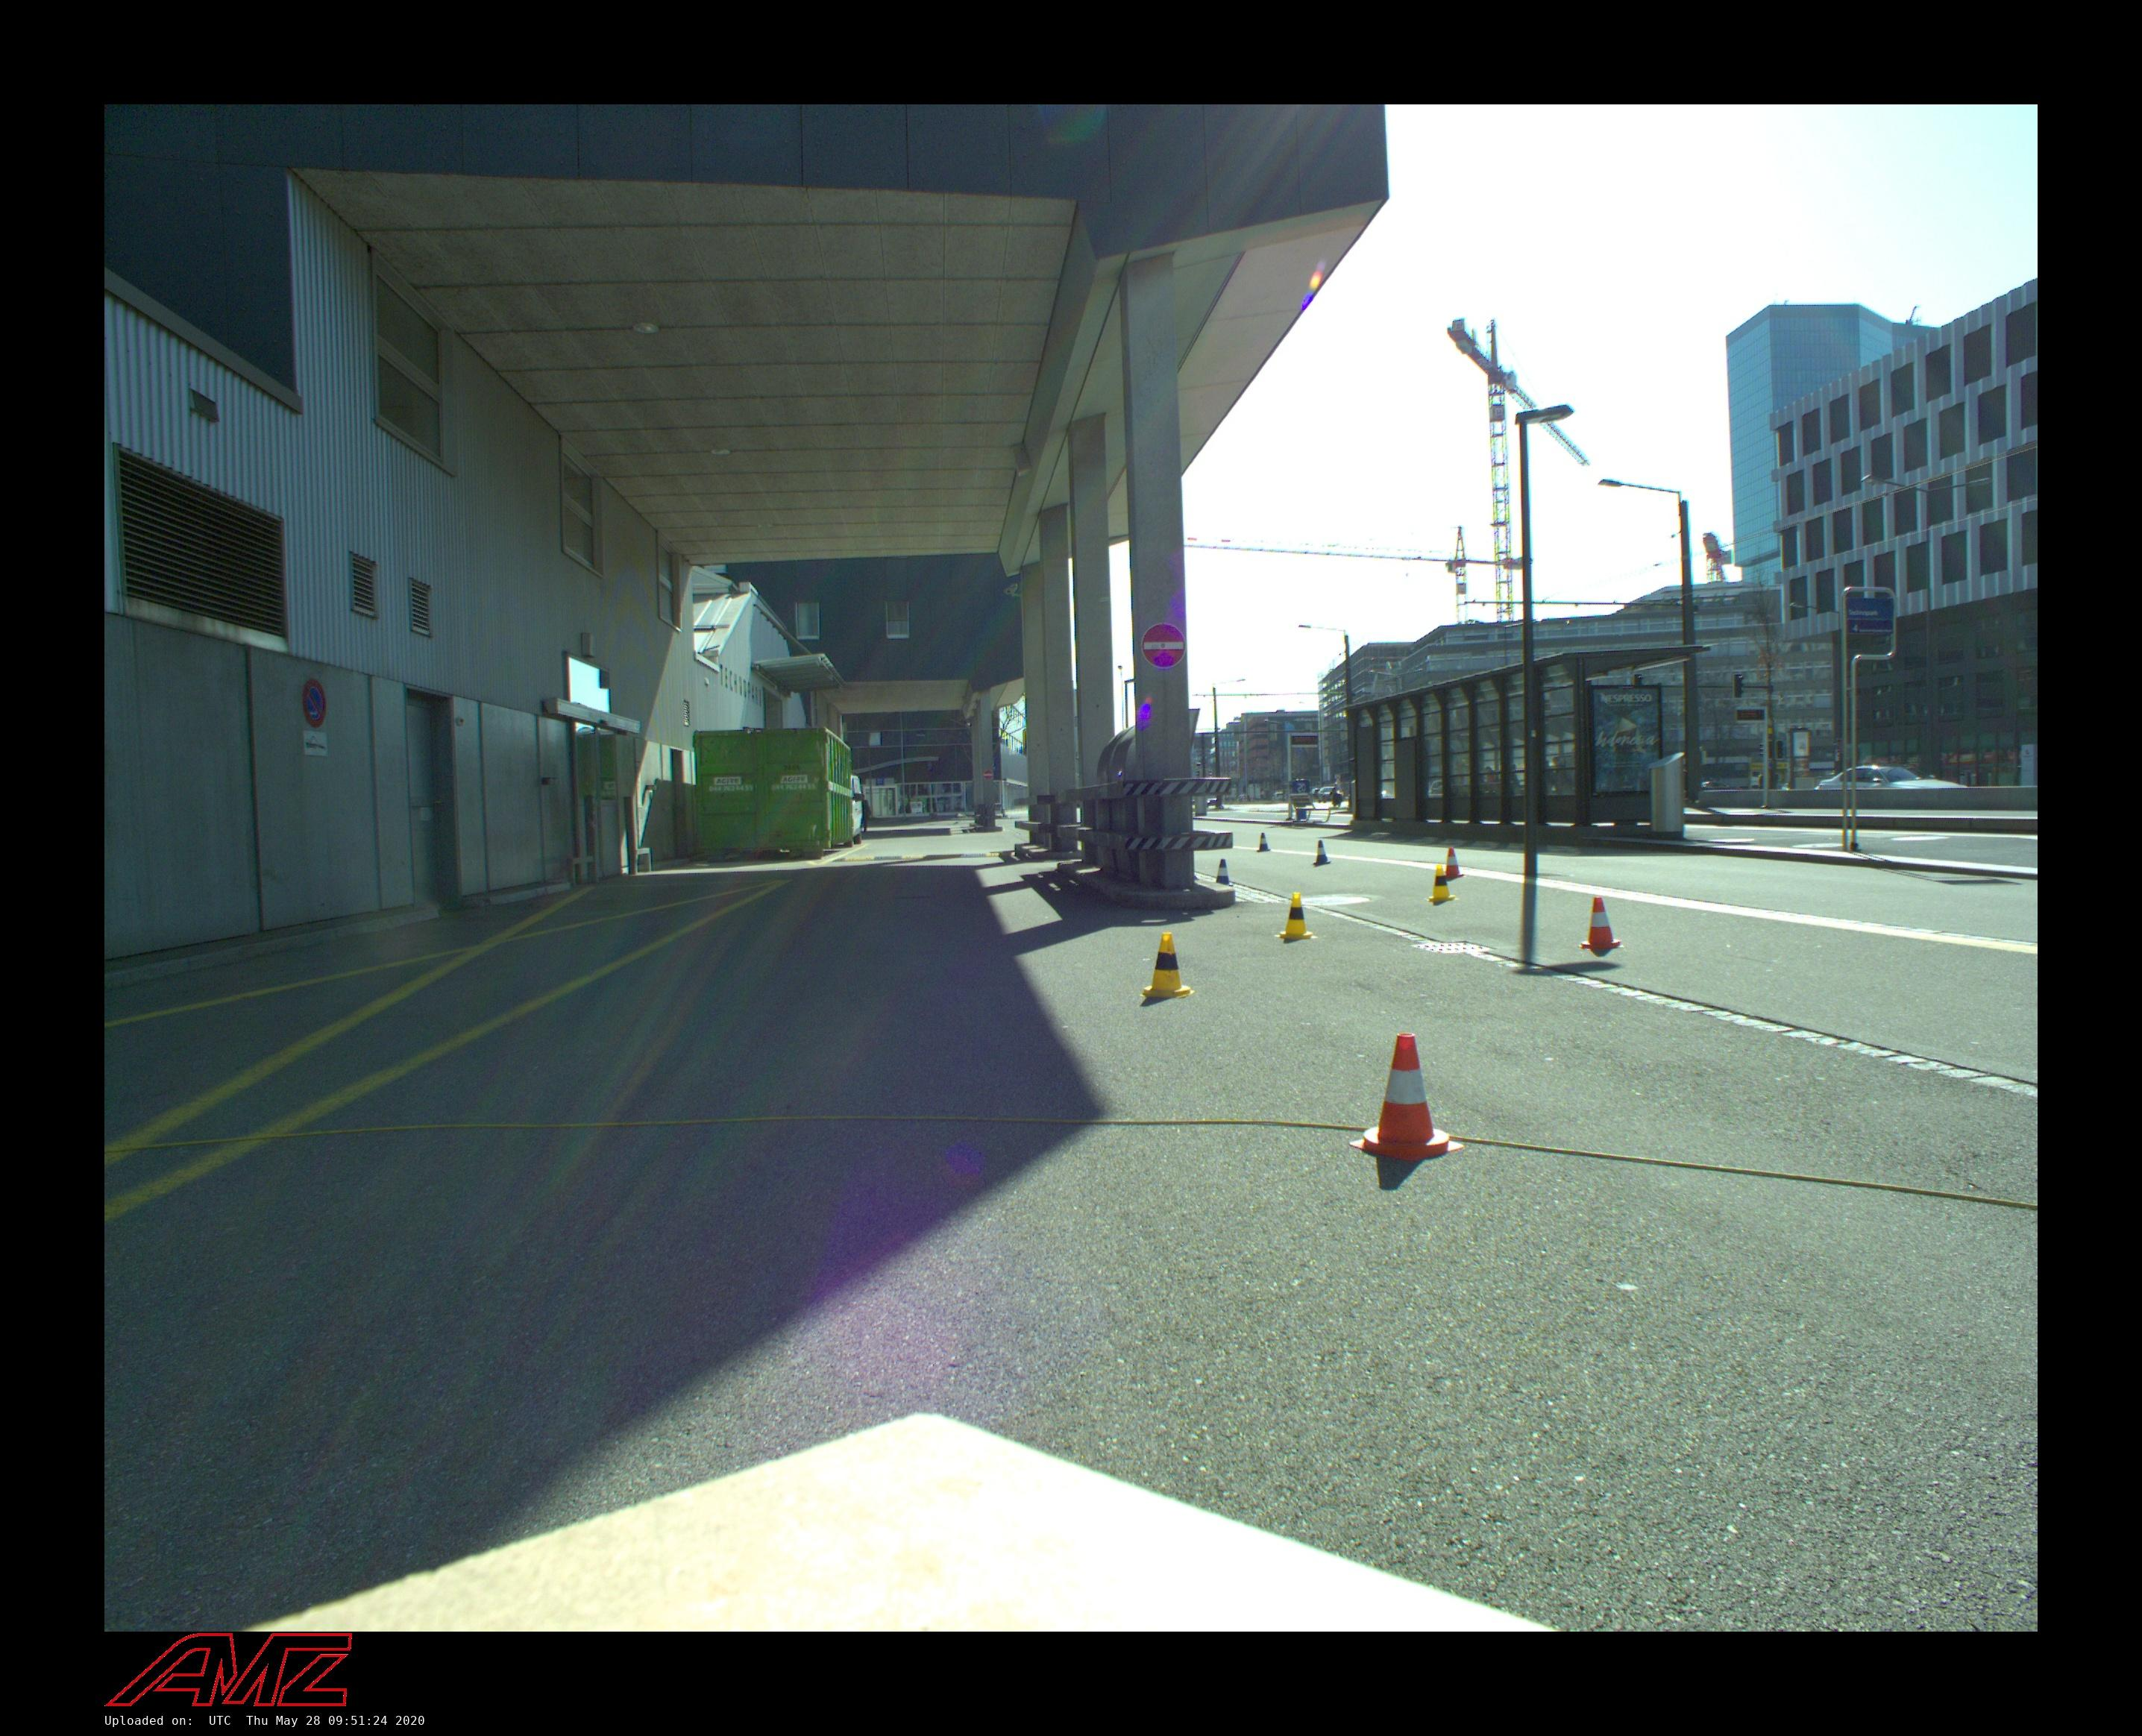blue_cone: (1212, 859, 1233, 887), (1313, 840, 1331, 866), (1258, 833, 1270, 852)
orange_cone: (1350, 1033, 1463, 1159), (1580, 896, 1621, 949), (1442, 847, 1463, 879)
yellow_cone: (1143, 932, 1191, 997), (1279, 893, 1313, 939), (1428, 864, 1455, 902)
